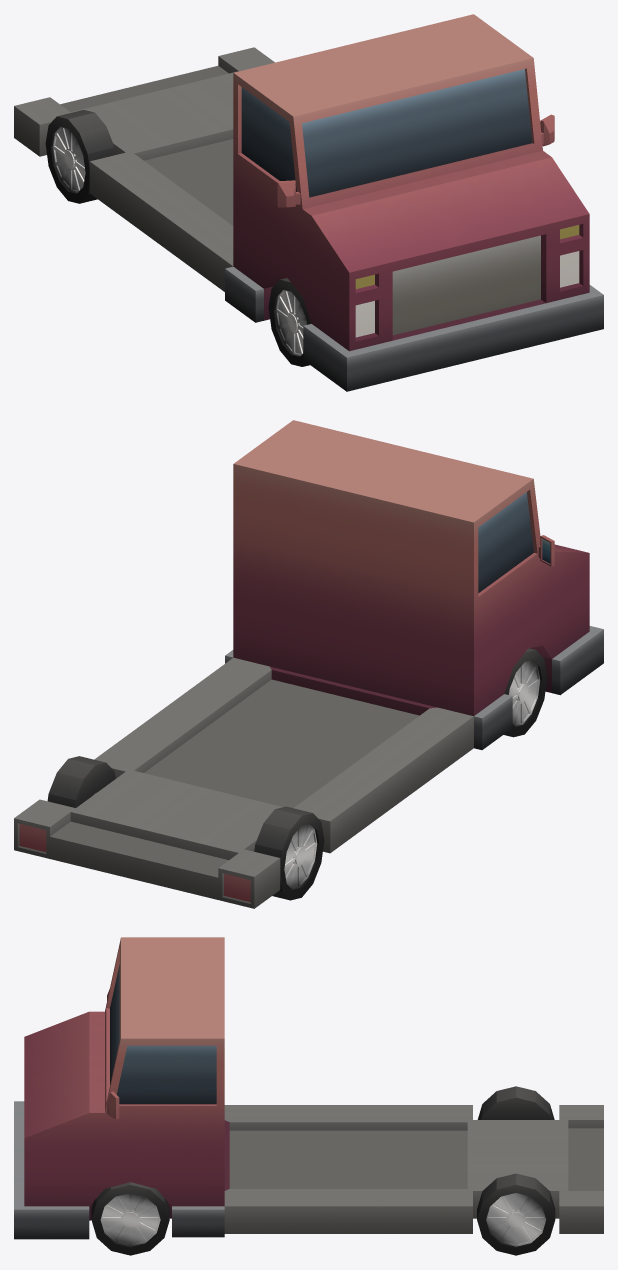
Rendered from Truck_Main_01.fbx.
3 views of the same model, one above another, from view 1: azimuth 30°, elevation 25°; view 2: azimuth 150°, elevation 25°; view 3: azimuth 270°, elevation 25° (orthographic). The views are drawn at different scales.
Visible parts, largest first — view 1: pCube146; view 2: pCube146; view 3: pCube146.
Part boxes in pixels (bbox=[...]): pCube146: bbox=[14, 14, 603, 391]; pCube146: bbox=[14, 420, 603, 908]; pCube146: bbox=[14, 937, 603, 1255].
Bounding box in the file's own units: 267 × 233 × 572.
